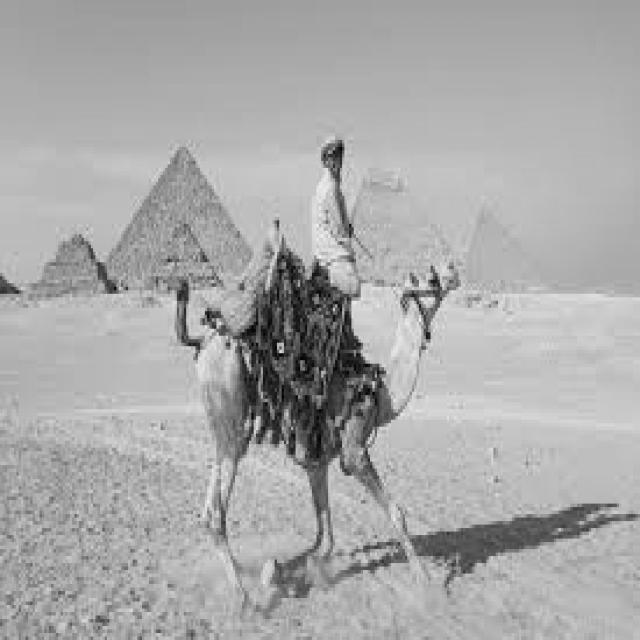Camel: (172, 259, 459, 615)
